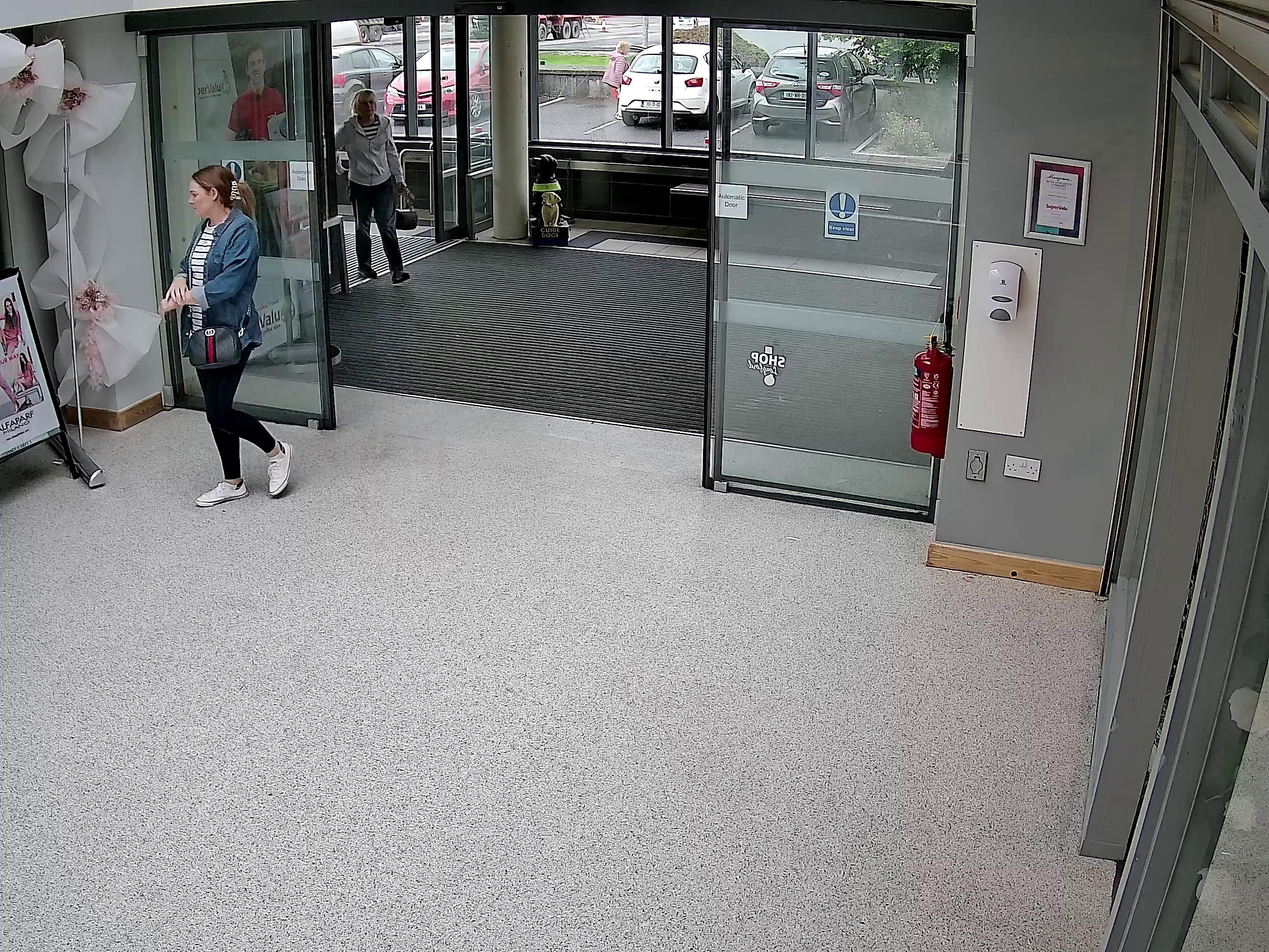backpack-or-handbag: (187, 326, 242, 370)
person: (160, 163, 293, 507)
person-with-backpack-handbag: (160, 163, 292, 506)
